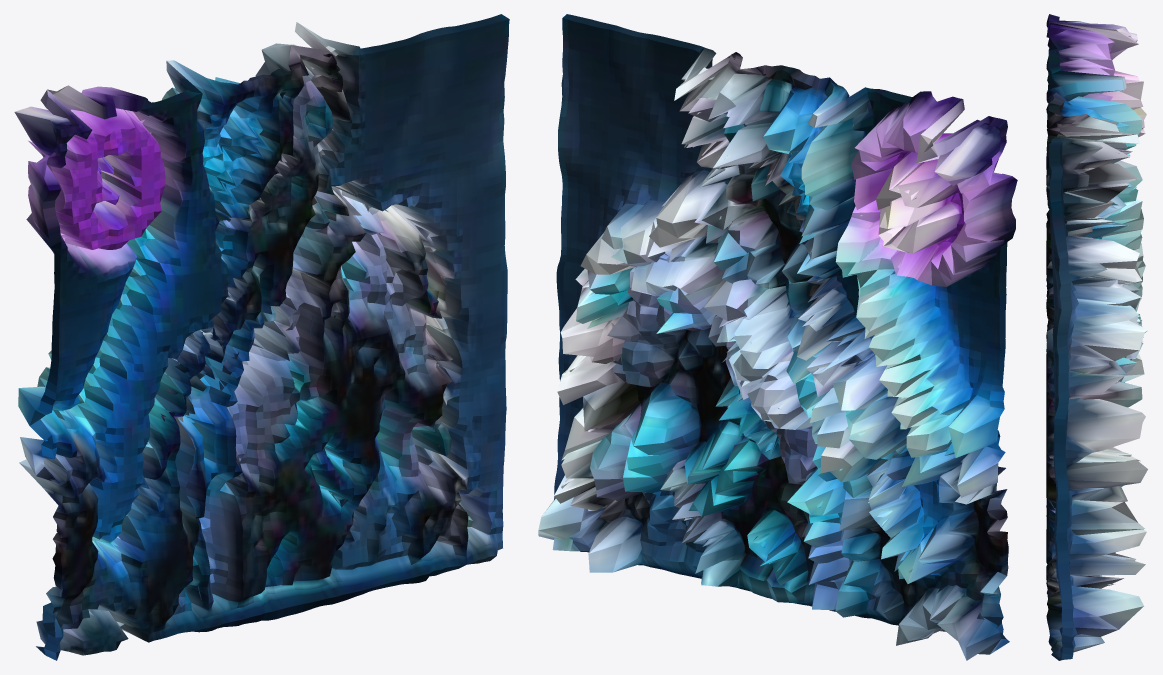
The model's file is sentinelle-x1-relief.glb.
The picture shows the model from 3 angles, left to right: view 1: azimuth 30°, elevation 25°; view 2: azimuth 150°, elevation 25°; view 3: azimuth 270°, elevation 25°; orthographic projection. The views are drawn at different scales.
Parts seen in each view (by area): view 1: RELIEF_REFERENCE_sentinelle-x1; view 2: RELIEF_REFERENCE_sentinelle-x1; view 3: RELIEF_REFERENCE_sentinelle-x1.
Part boxes in pixels (<box>): RELIEF_REFERENCE_sentinelle-x1: <box>14,14,509,660</box>; RELIEF_REFERENCE_sentinelle-x1: <box>538,14,1017,660</box>; RELIEF_REFERENCE_sentinelle-x1: <box>1046,14,1148,660</box>.
Size of the model in its own units: 3.1 by 3.54 by 0.6899.
Materials: 1 (1 with a texture image).
